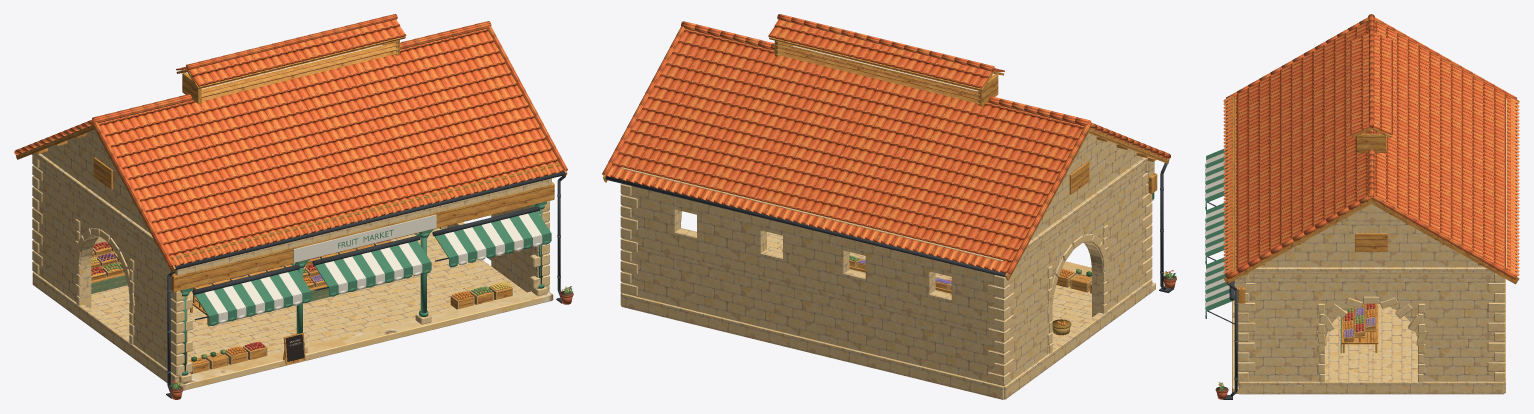
3 views of the same model, side by side, from view 1: azimuth 30°, elevation 25°; view 2: azimuth 150°, elevation 25°; view 3: azimuth 270°, elevation 25° (orthographic). The views are drawn at different scales.
Parts seen in each view (by area): view 1: seaside_roof, seaside_stone, house_paint, seaside_timber, seaside_ridge, seaside_shutter; view 2: seaside_roof, seaside_stone, seaside_timber, seaside_ridge, house_paint; view 3: seaside_roof, seaside_stone, seaside_timber, house_paint, seaside_ridge.
Part boxes in pixels (x1,y1,x2,y2): seaside_roof: [14, 19, 567, 267]; seaside_stone: [32, 130, 553, 390]; house_paint: [91, 171, 565, 398]; seaside_timber: [16, 36, 567, 373]; seaside_ridge: [92, 14, 491, 123]; seaside_shutter: [91, 275, 405, 326]; seaside_roof: [602, 19, 1170, 274]; seaside_stone: [620, 133, 1155, 399]; seaside_timber: [603, 37, 1169, 293]; seaside_ridge: [681, 14, 1091, 126]; house_paint: [605, 160, 1173, 335]; seaside_roof: [1223, 17, 1519, 279]; seaside_stone: [1232, 99, 1506, 394]; seaside_timber: [1223, 96, 1519, 352]; house_paint: [1205, 103, 1517, 399]; seaside_ridge: [1368, 14, 1374, 199].
Bounding box in the file's own units: 13 × 7.78 × 9.47.
8 materials, 7 textured.
